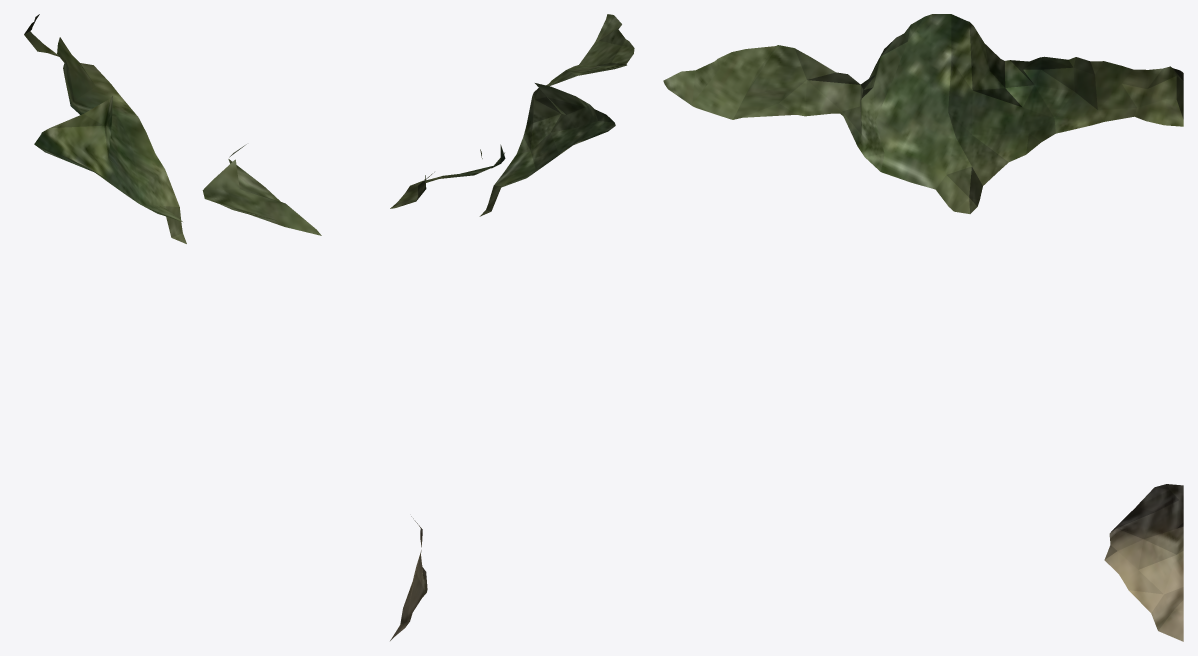
The picture shows the model from 3 angles, left to right: view 1: azimuth 30°, elevation 25°; view 2: azimuth 150°, elevation 25°; view 3: azimuth 270°, elevation 25°; orthographic projection. The views are drawn at different scales.
Bounding box in the file's own units: 0.713 × 2.64 × 2.23.
Materials: 1 (1 with a texture image).
